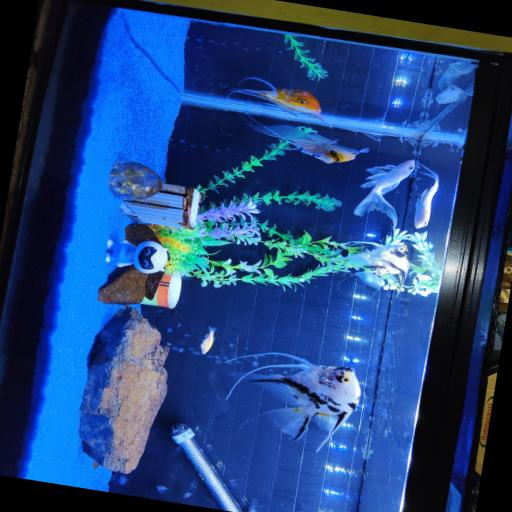Fish: (226, 353, 360, 451), (243, 118, 368, 163), (221, 77, 323, 120), (353, 160, 414, 227), (343, 241, 409, 292), (435, 61, 474, 104), (413, 163, 438, 228), (438, 61, 475, 88), (434, 85, 471, 104), (199, 326, 215, 354)
